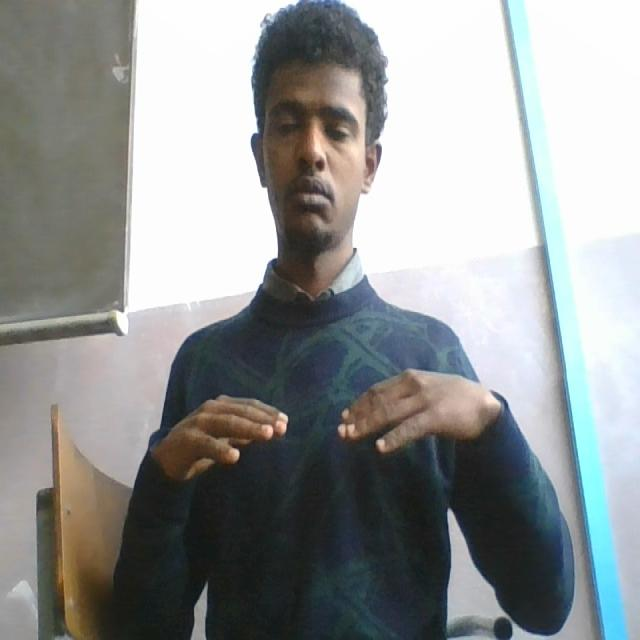meznanat: (149, 351, 490, 506)
